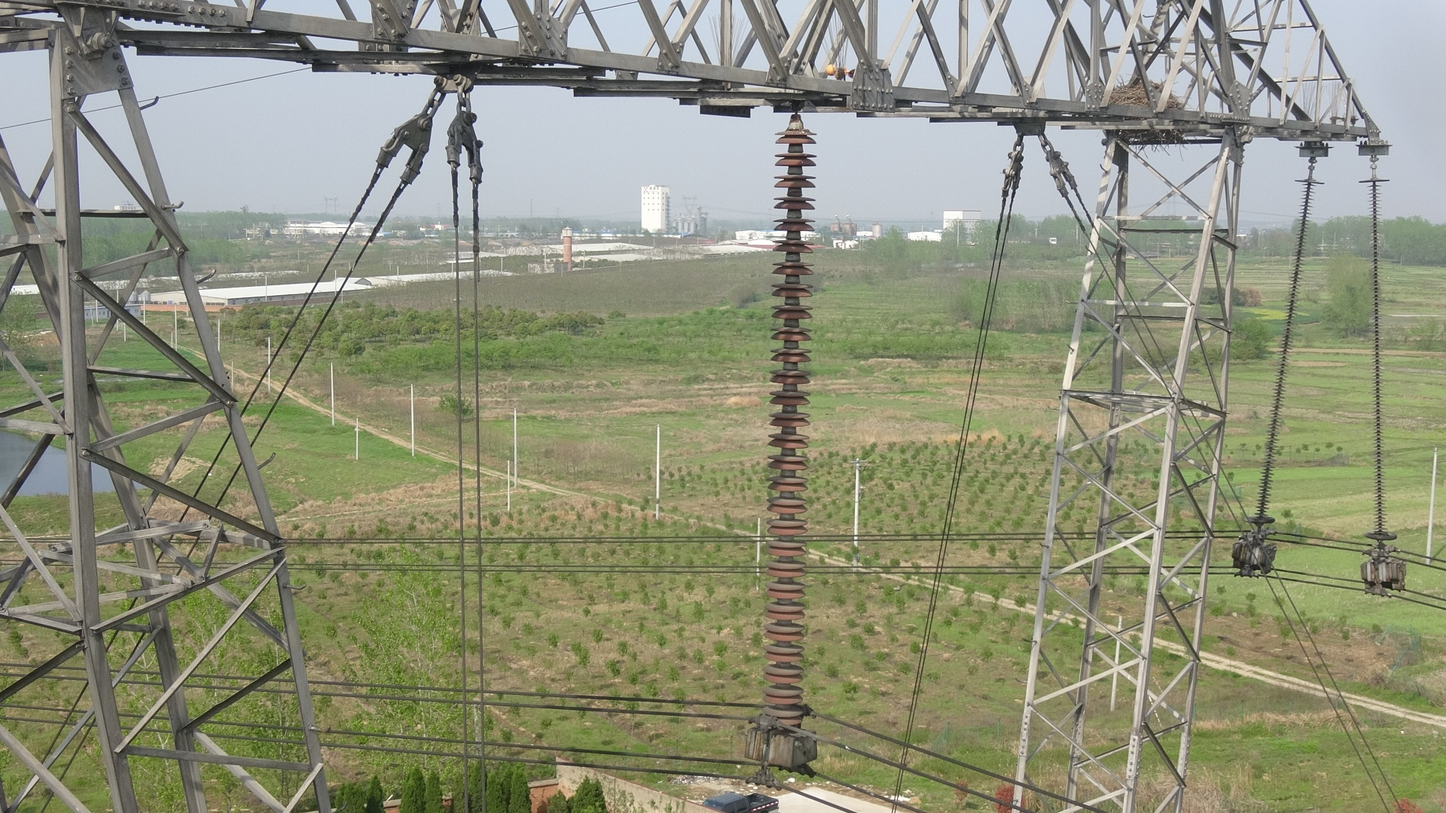insulator: (752, 118, 825, 731), (1251, 181, 1318, 518), (1366, 181, 1392, 537)
